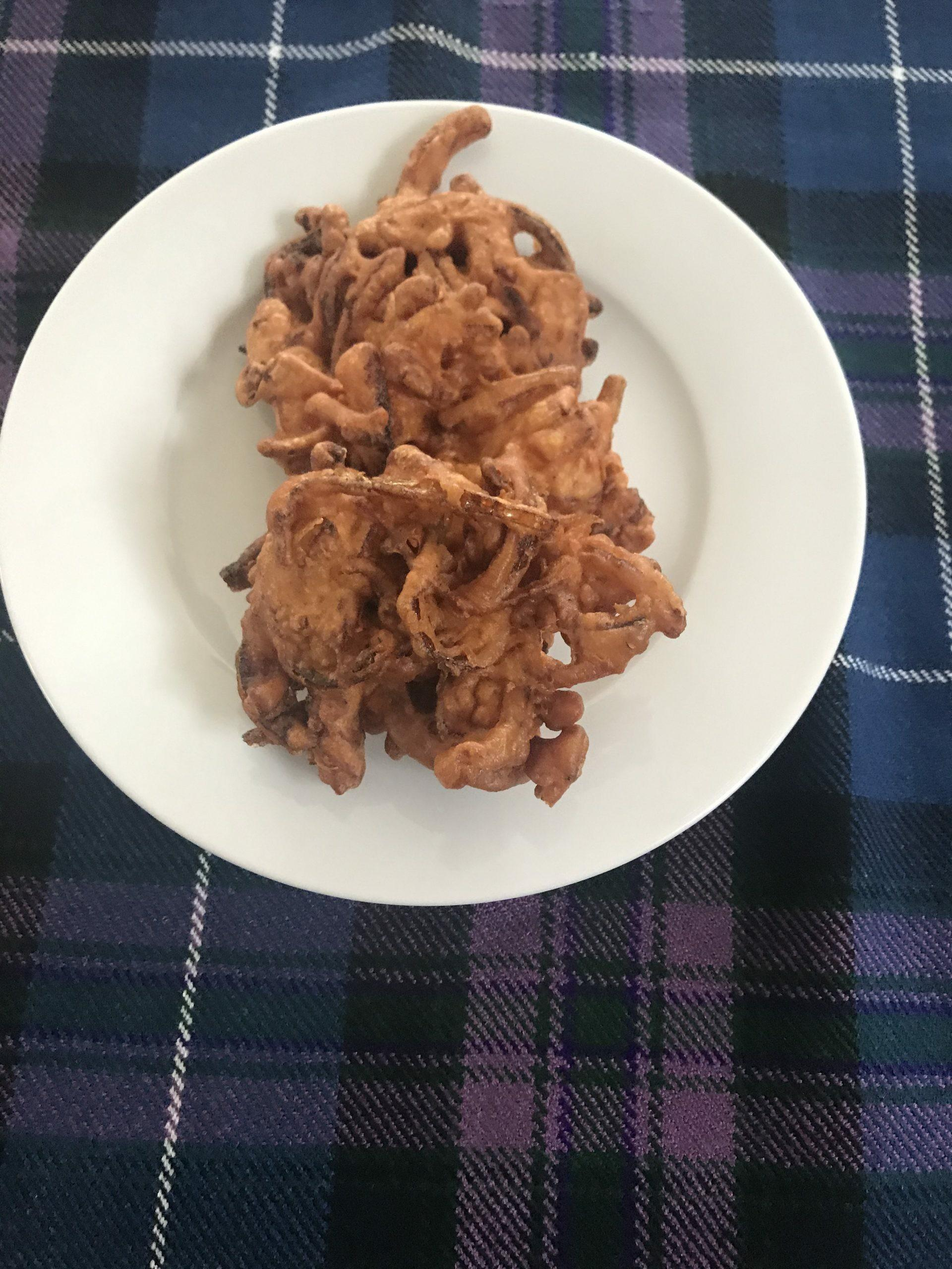OnionPakoda: (170, 92, 708, 819)
